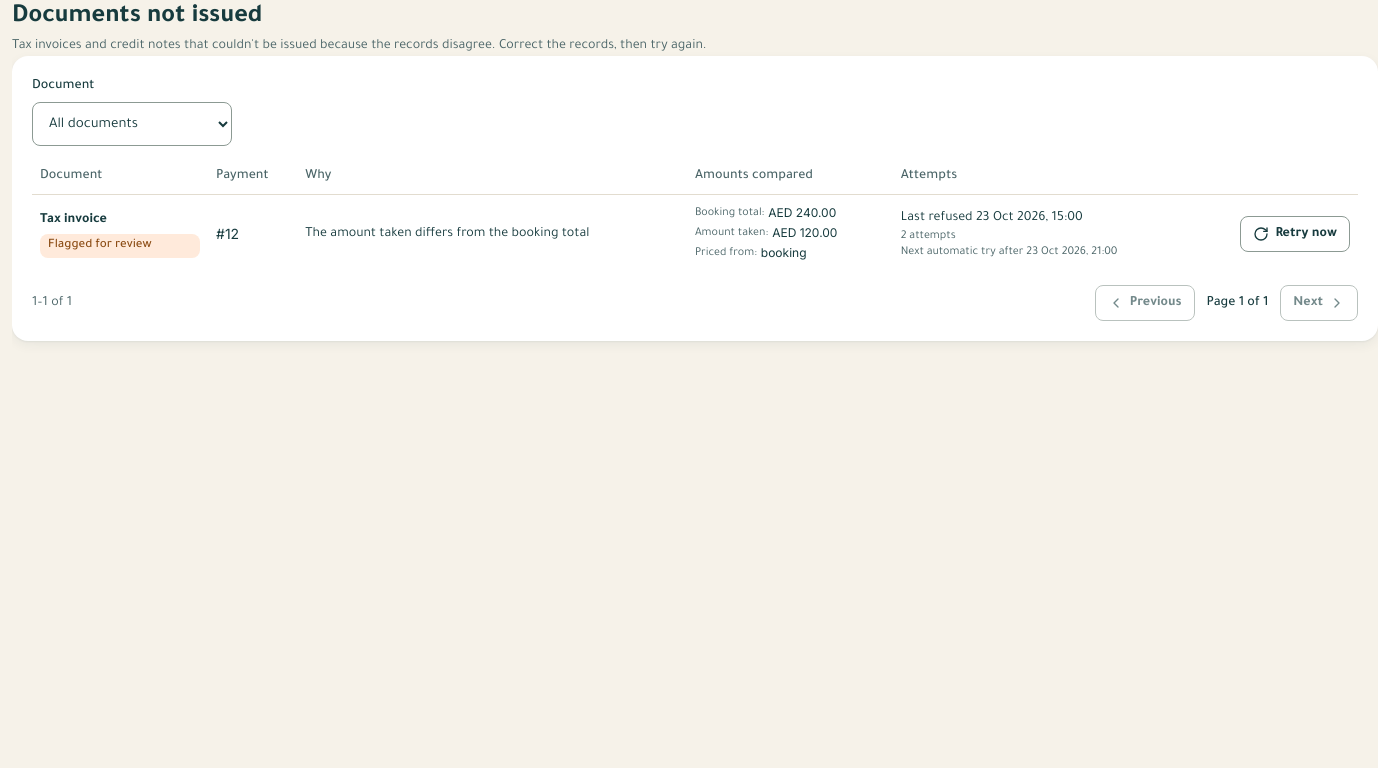
it: A09 documents not issued › explains why and what was compared, and retries with invoices.manage
Expected: the text "The amount taken differs from the booking total" shows "Flagged for review", [48, 239, 152, 252]
Expected: the text "The amount taken differs from the booking total" shows "2 attempts", [901, 230, 956, 242]
Click the button with aria-label "Retry now: Tax invoice for payment #12" at point(1295, 234), box [1240, 216, 1350, 252]
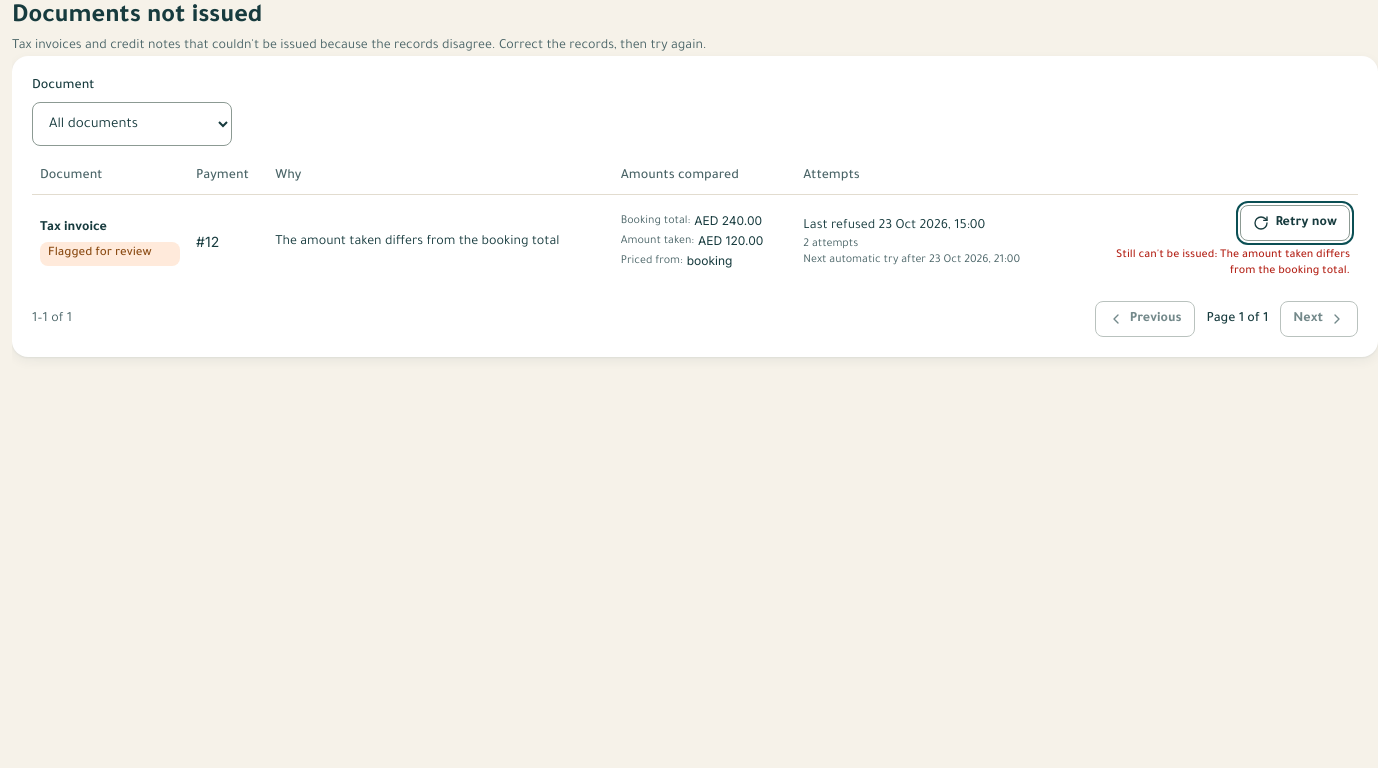
Expected: the text "Still can't be issued: The amount taken differs from the booking total." is shown, [1110, 247, 1350, 279]
Click the button with aria-label "Retry now: Tax invoice for payment #12" at point(1295, 223), box [1240, 205, 1350, 241]
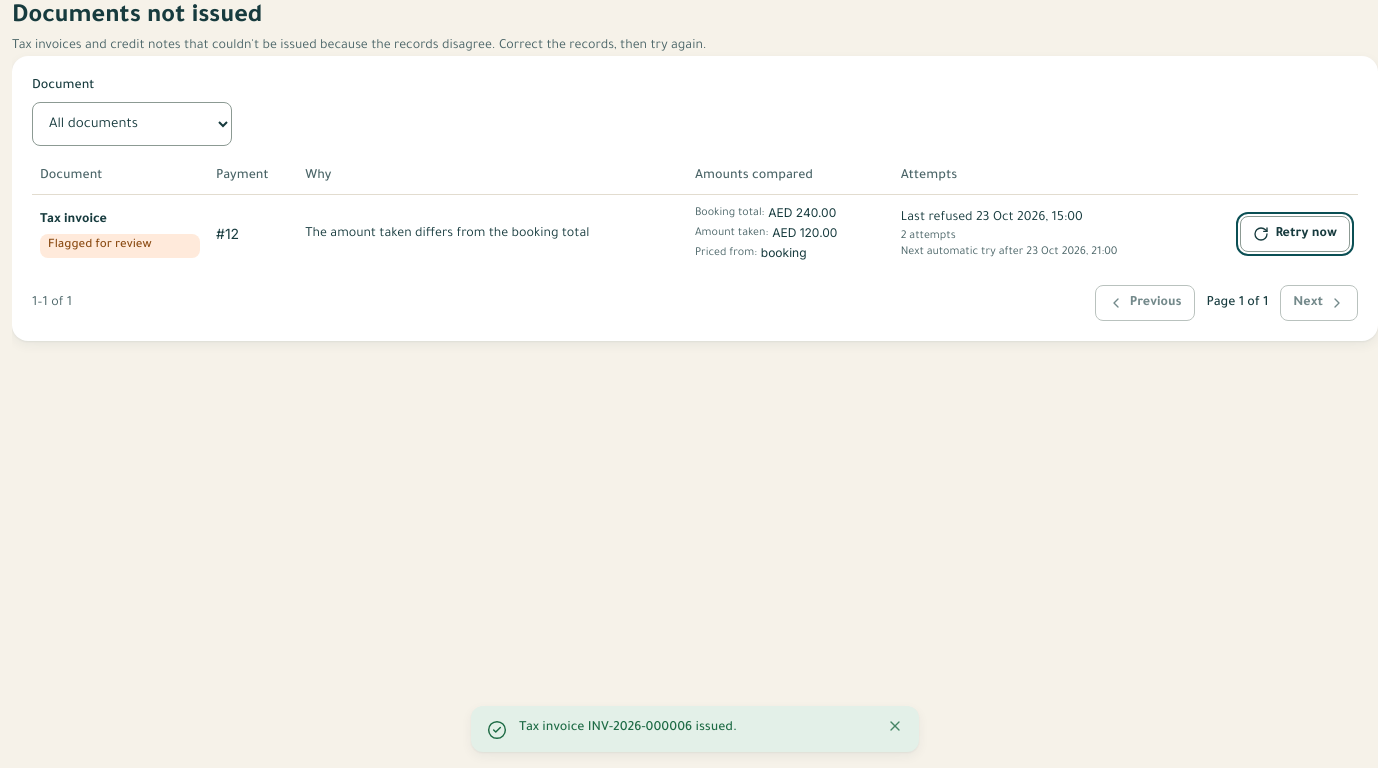
Expected: the text "Tax invoice INV-2026-000006 issued." is shown, [519, 721, 737, 735]
